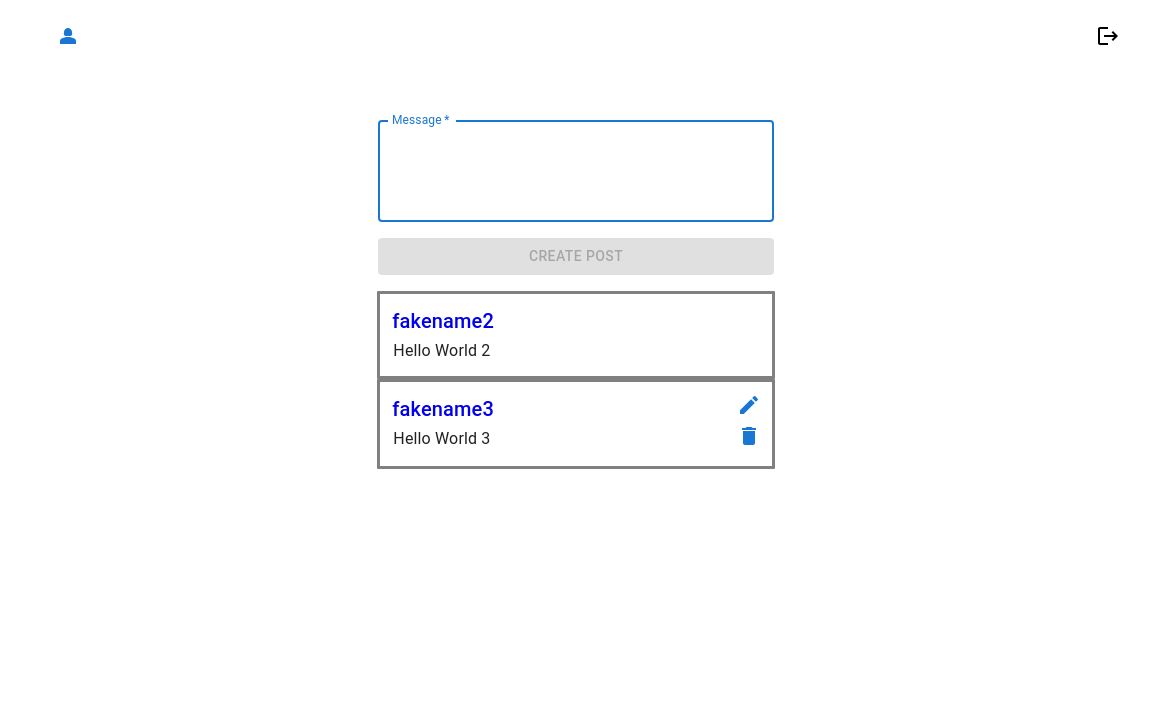
Test case: Update Post › should update page to show updated post message when updating the post succeeds
The width and height of the screenshot is (1152, 720).
Step 1. Click the link named "edit-icon" → (749, 408), box [737, 393, 761, 424]
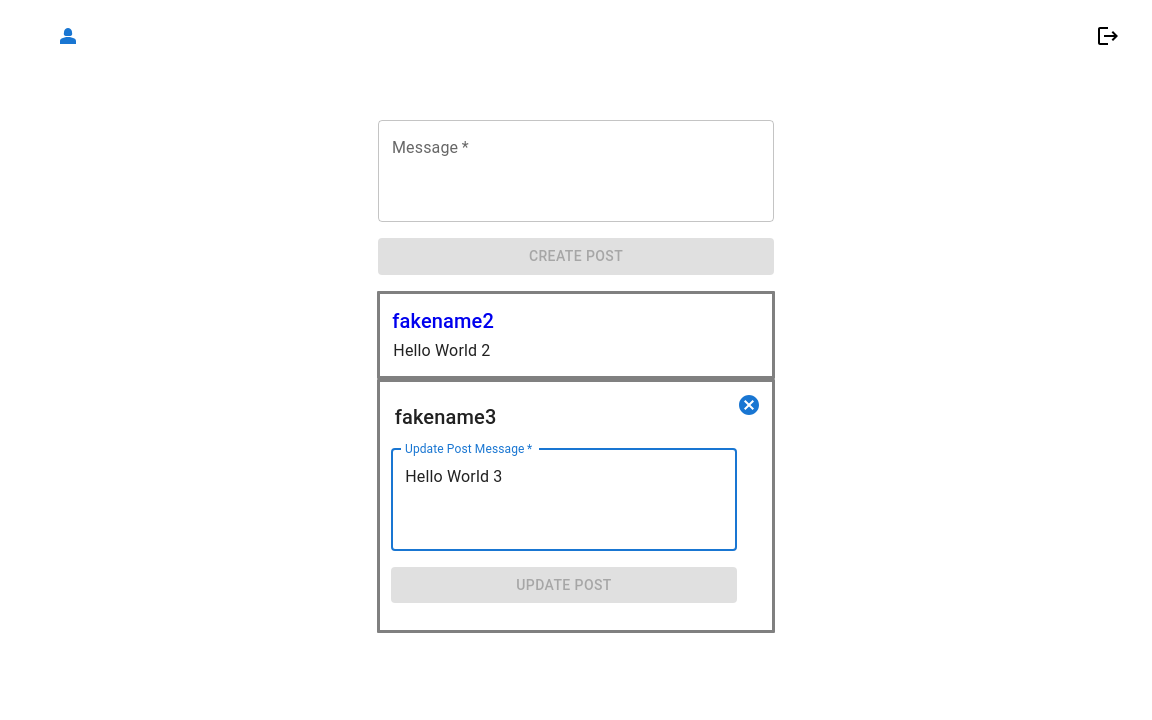
Step 2. Type "New message" into the text box "Hello World 3" → (564, 500), box [405, 465, 723, 534]
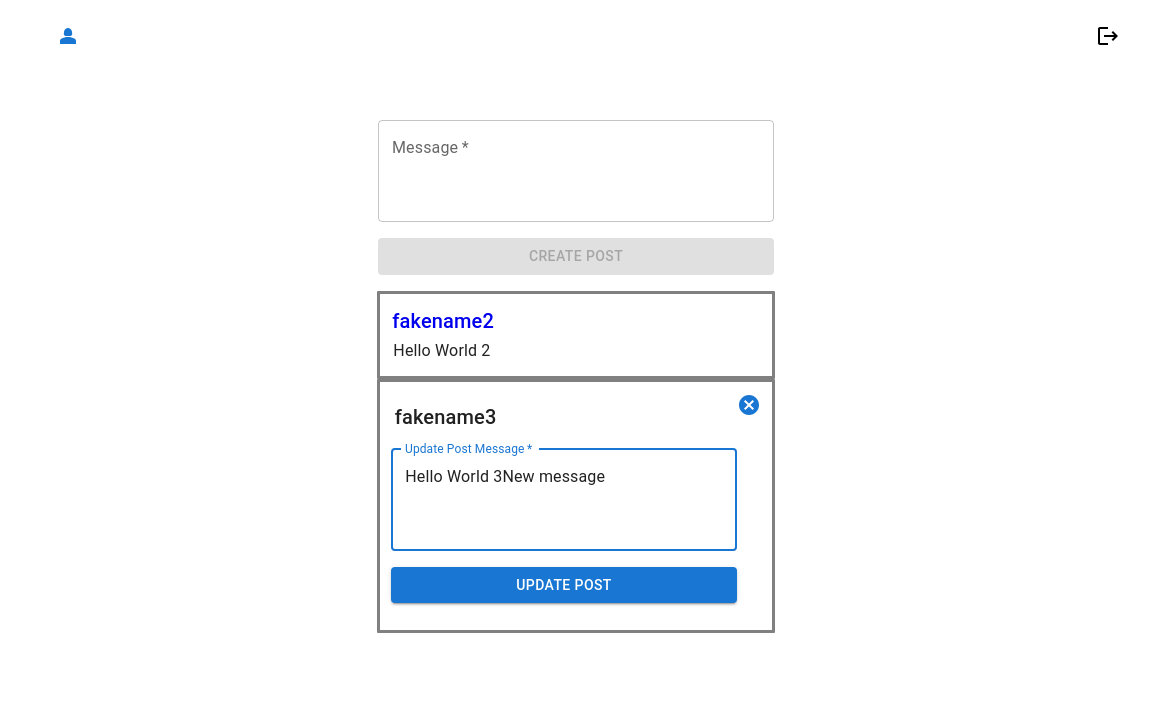
Step 3. Click the button "Update Post" → (564, 585), box [391, 567, 737, 603]
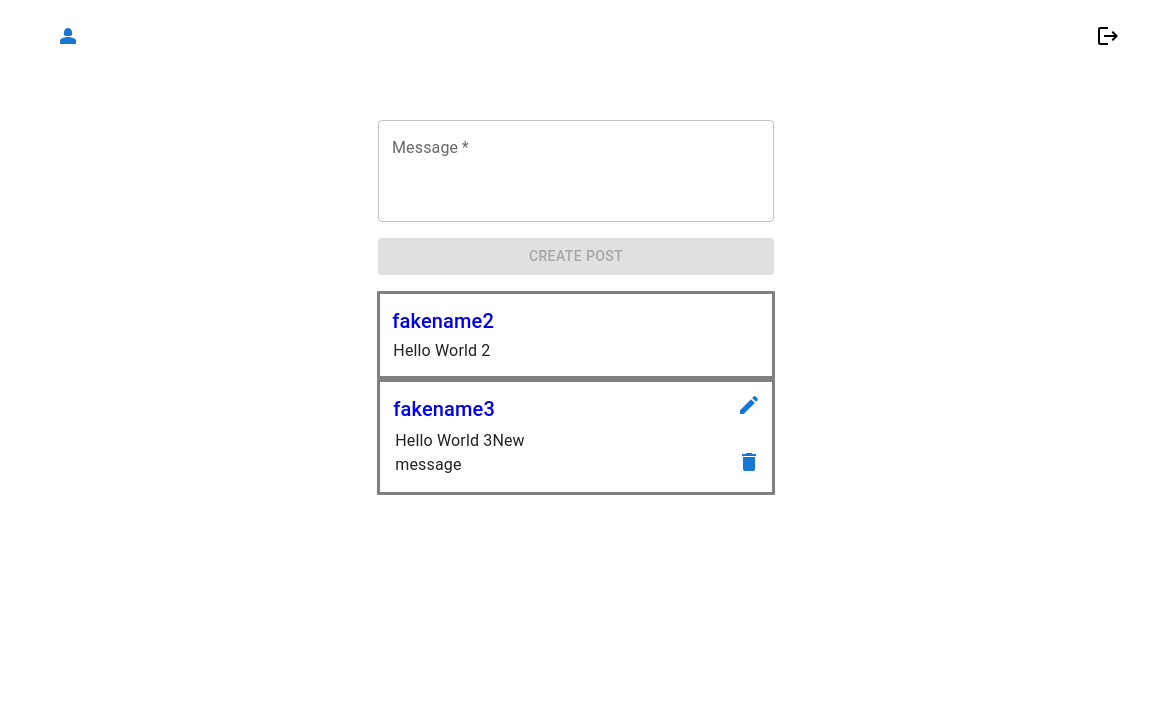
Check: the text "Hello World 3New message" is shown, box [395, 431, 525, 474]
